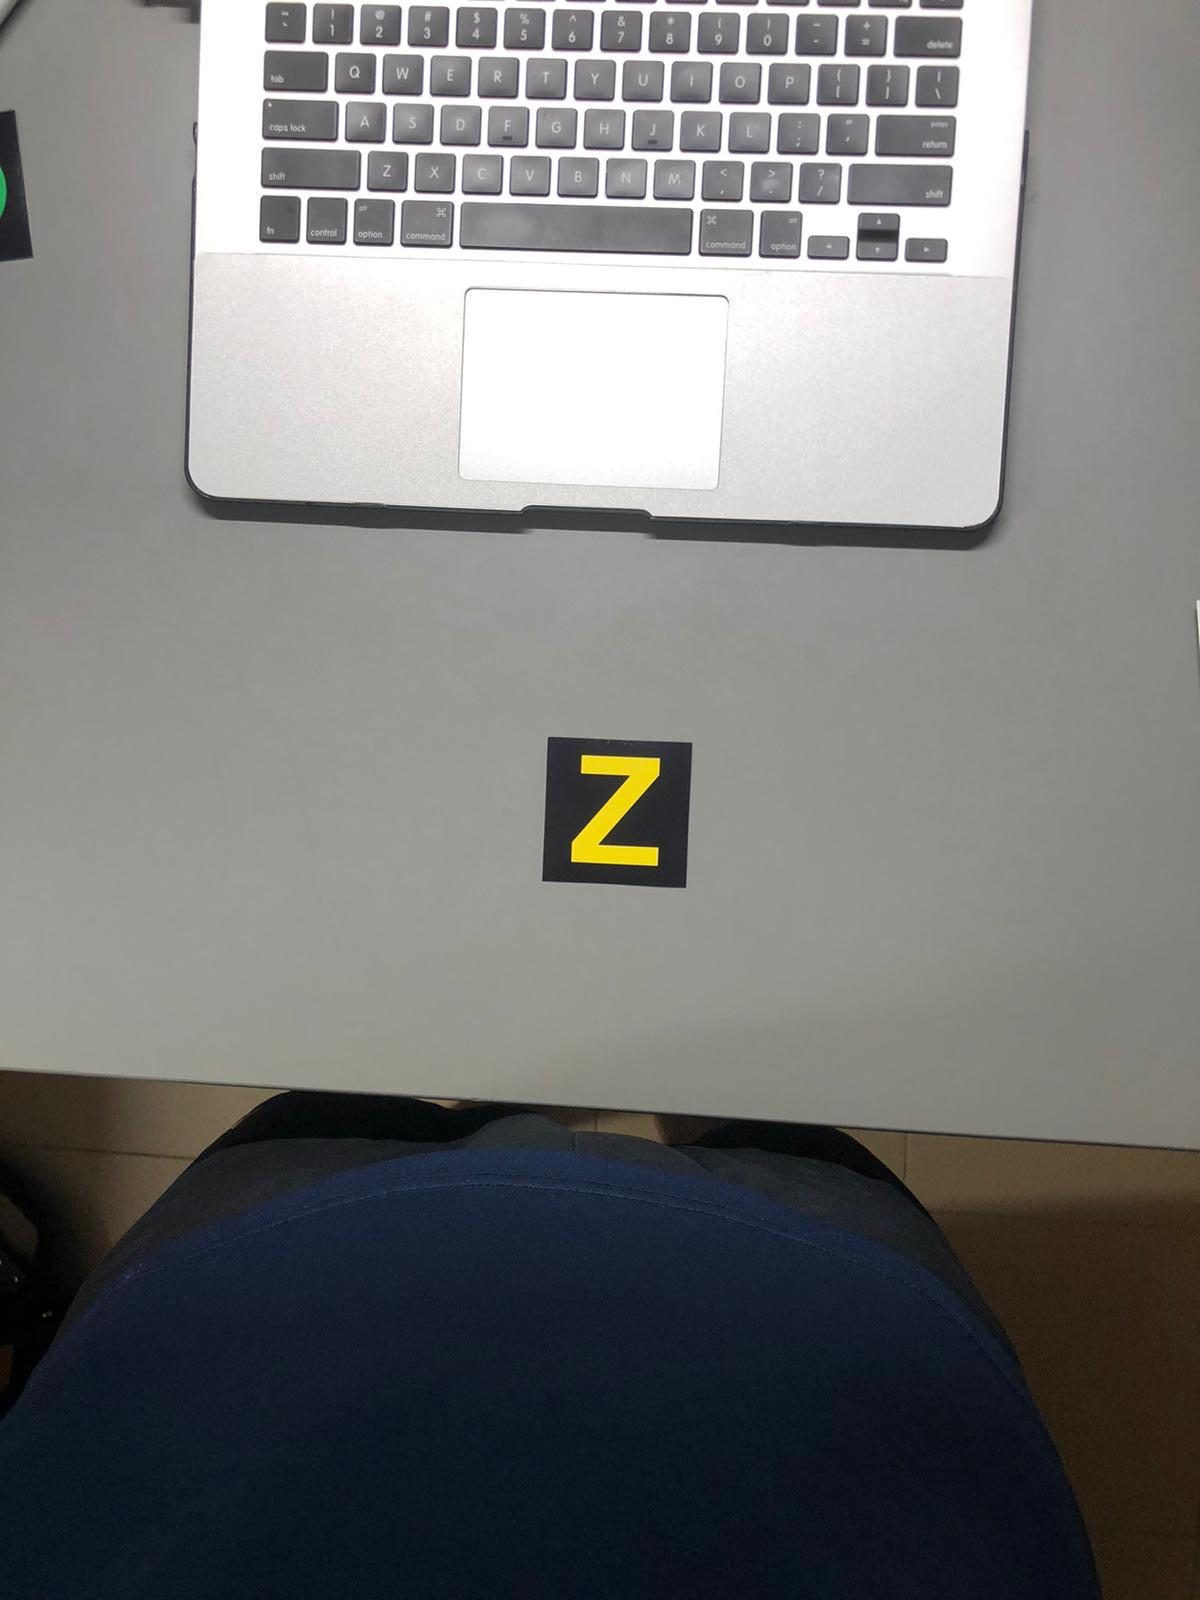Z: (553, 743, 691, 877)
